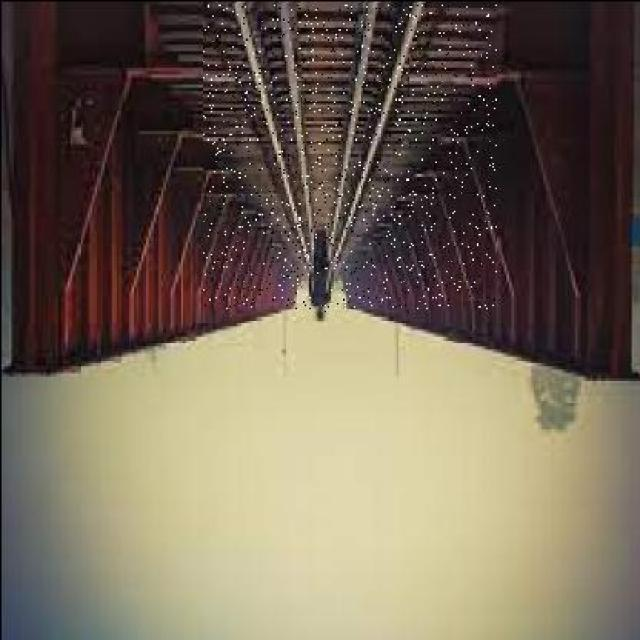danger: (304, 222, 341, 324)
rail: (203, 3, 495, 306)
